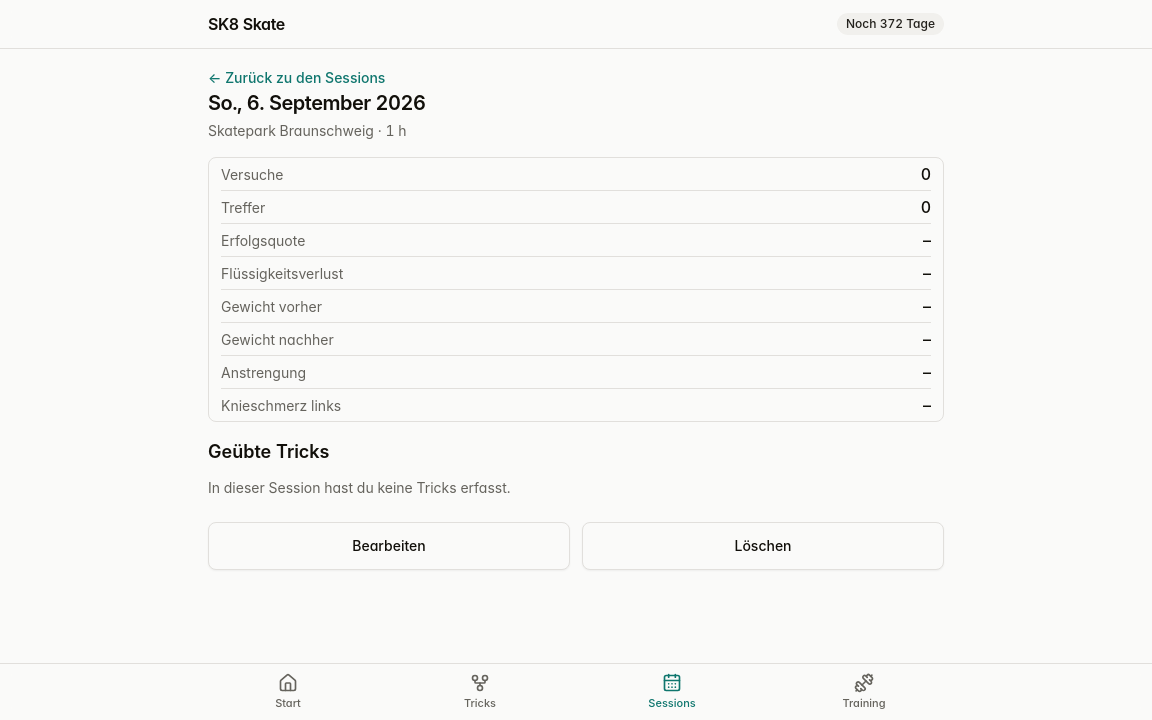
Scenario: DeleteSessionDialog › Kriterium 10: 'Endgültig löschen' sends exactly one DELETE, then navigates to the list without the session
Click the button "Löschen".
click(763, 546)  # box [582, 522, 944, 570]
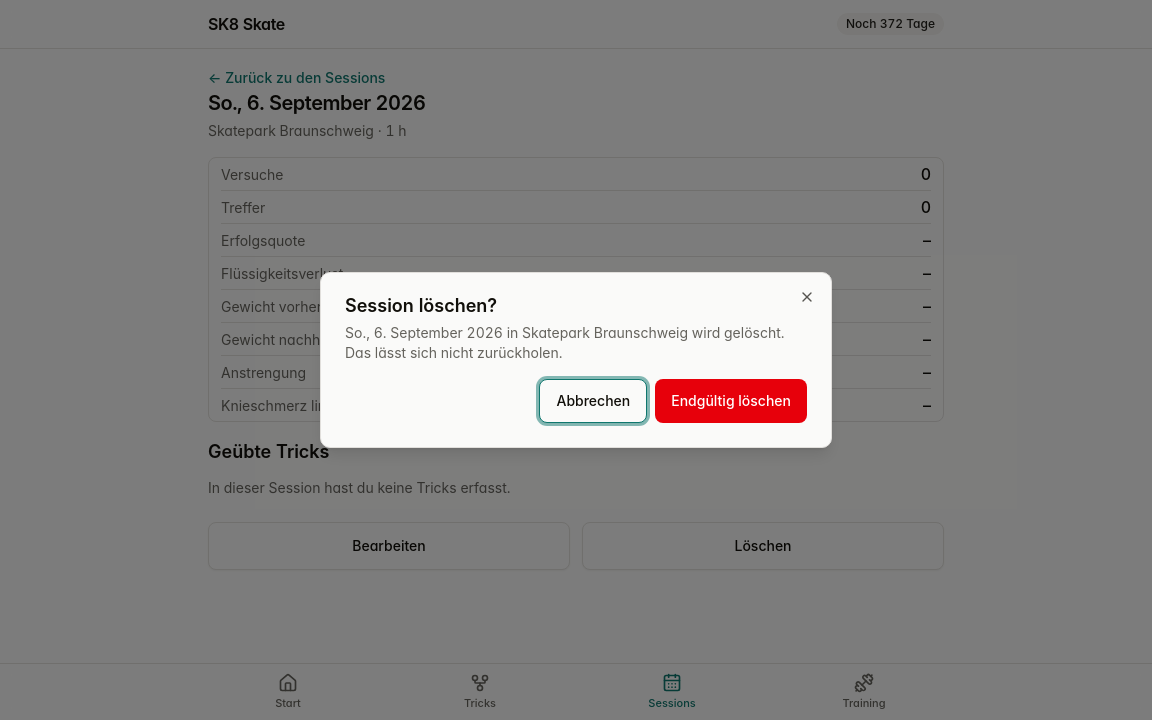
Check: the dialog "Session löschen?" is shown, box [320, 272, 832, 448]
Click the button "Endgültig löschen".
click(731, 401)  # box [655, 379, 807, 423]
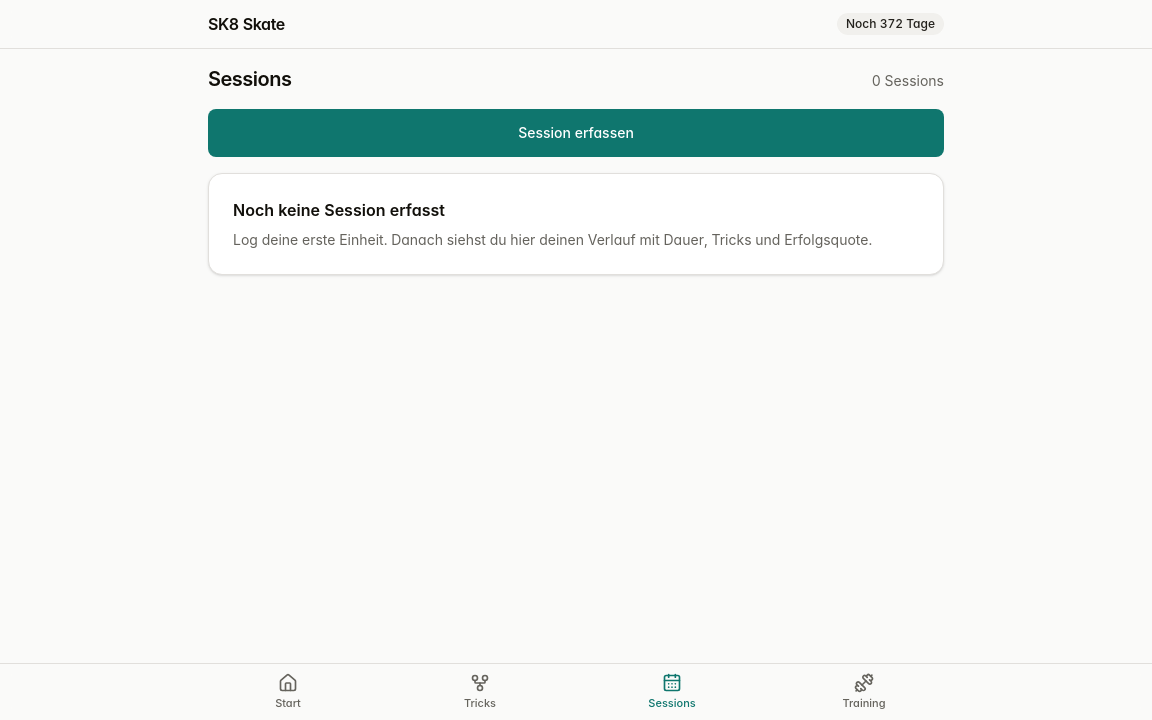
Check: the heading "Sessions" is shown, box [208, 65, 292, 93]
Check: the heading "Noch keine Session erfasst" is shown, box [233, 200, 445, 220]
